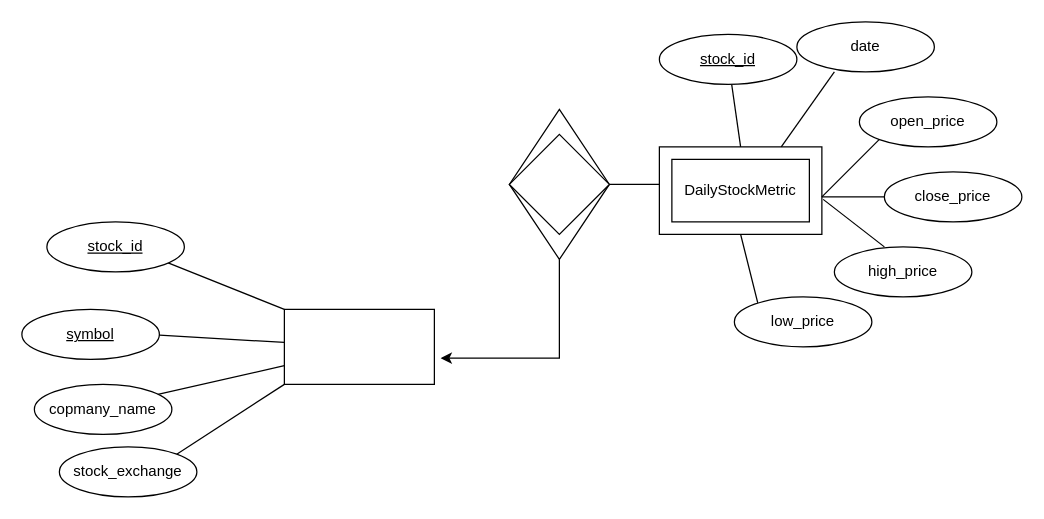
Image size: 1044x519. Some labels were removed from this diagram. Each missing label, with the box of its shape:
has: (508, 133, 609, 234)
Stock: (283, 308, 434, 384)
